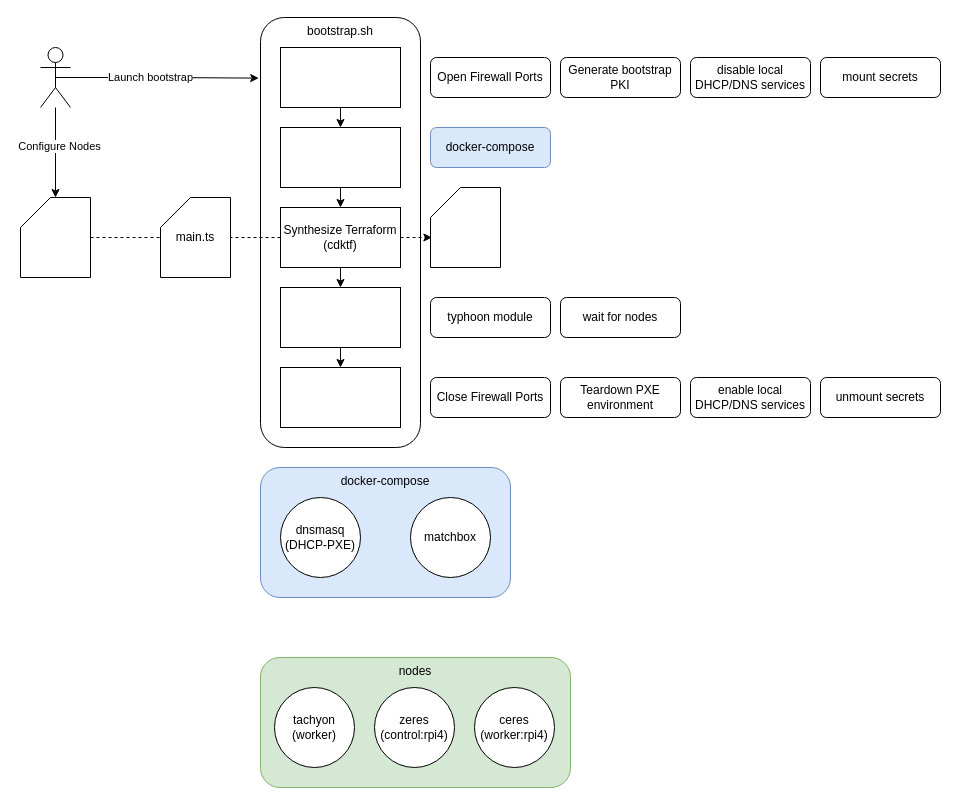
The diagram is 958 pixels wide and 805 high, and some of its shapes have lost their labels. The shapes that lost their labels are listed below. From the top down, each one's centre as x and y in pixels, then its label:
At (340,77): "Pre-Bootstrap".
At (340,157): "Start PXE Environment".
At (55,237): "nodes.json".
At (465,227): ".tfstate".
At (340,317): "Apply Terraform".
At (340,397): "Post-Bootstrap".
